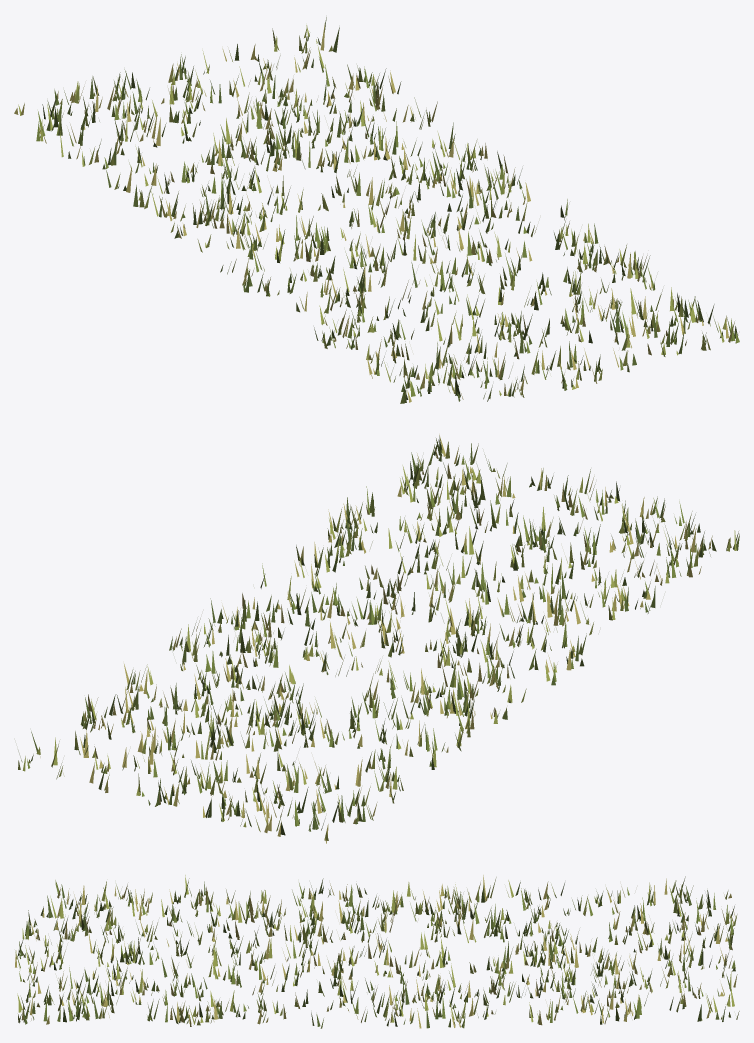
Rendered from Meadow_GrassPatch_02.obj.
The picture shows the model from 3 angles, top to bottom: view 1: azimuth 30°, elevation 25°; view 2: azimuth 150°, elevation 25°; view 3: azimuth 270°, elevation 25°; orthographic projection. The views are drawn at different scales.
Parts seen in each view (by area): view 1: Meadow_GrassPatch_02; view 2: Meadow_GrassPatch_02; view 3: Meadow_GrassPatch_02.
Boxes of the visible parts, x1,y1,x2,y2 form: Meadow_GrassPatch_02: [14, 17, 739, 403]; Meadow_GrassPatch_02: [18, 434, 739, 843]; Meadow_GrassPatch_02: [15, 875, 739, 1028].
Size of the model in its own units: 4.52 by 0.4197 by 10.11.
1 material, 1 textured.
